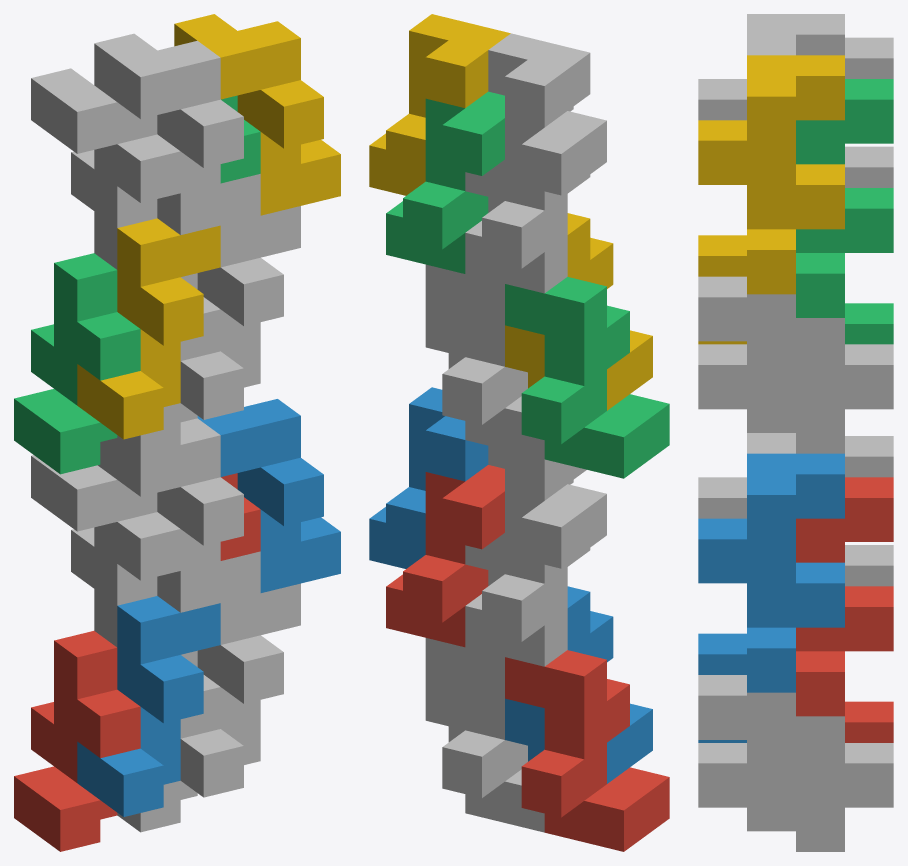
The model's file is tiling.obj.
3 views of the same model, side by side, from view 1: azimuth 30°, elevation 25°; view 2: azimuth 150°, elevation 25°; view 3: azimuth 270°, elevation 25° (orthographic). The views are drawn at different scales.
Parts seen in each view (by area): view 1: copy_2_domain_4, copy_1_domain_2, copy_1_domain_4, copy_1_domain_3, copy_1_domain_1, copy_2_domain_8, copy_2_domain_2, copy_2_domain_3, copy_2_domain_6, copy_2_domain_1, copy_1_domain_6, copy_1_domain_8 (+4 smaller); view 2: copy_1_domain_1, copy_1_domain_3, copy_2_domain_3, copy_2_domain_1, copy_2_domain_5, copy_2_domain_7, copy_1_domain_5, copy_1_domain_7, copy_2_domain_8, copy_2_domain_6, copy_2_domain_4, copy_1_domain_2 (+4 smaller); view 3: copy_2_domain_6, copy_2_domain_8, copy_1_domain_8, copy_1_domain_6, copy_2_domain_5, copy_2_domain_7, copy_1_domain_7, copy_1_domain_5, copy_2_domain_4, copy_2_domain_1, copy_2_domain_3, copy_2_domain_2 (+4 smaller).
Part boxes in pixels (box(x1,y1,x2,y2)): copy_2_domain_4: box(94, 33, 260, 235); copy_1_domain_2: box(77, 596, 220, 816); copy_1_domain_4: box(77, 218, 220, 439); copy_1_domain_3: box(14, 253, 140, 474); copy_1_domain_1: box(14, 631, 140, 851); copy_2_domain_8: box(174, 14, 340, 215); copy_2_domain_2: box(98, 418, 260, 612); copy_2_domain_3: box(31, 68, 180, 269); copy_2_domain_6: box(197, 399, 340, 592); copy_2_domain_1: box(31, 455, 180, 647); copy_1_domain_6: box(180, 583, 300, 797); copy_1_domain_8: box(180, 206, 300, 419); copy_1_domain_1: box(505, 650, 669, 851); copy_1_domain_3: box(505, 277, 669, 478); copy_2_domain_3: box(465, 111, 606, 293); copy_2_domain_1: box(465, 484, 606, 666); copy_2_domain_5: box(386, 465, 504, 647); copy_2_domain_7: box(386, 91, 504, 273); copy_1_domain_5: box(425, 638, 544, 832); copy_1_domain_7: box(425, 264, 544, 459); copy_2_domain_8: box(369, 14, 510, 195); copy_2_domain_6: box(369, 387, 488, 568); copy_2_domain_4: box(465, 33, 590, 212); copy_1_domain_2: box(505, 586, 652, 783); copy_2_domain_6: box(698, 453, 844, 692); copy_2_domain_8: box(698, 55, 844, 294); copy_1_domain_8: box(698, 276, 844, 429); copy_1_domain_6: box(698, 675, 844, 828); copy_2_domain_5: box(796, 477, 893, 716); copy_2_domain_7: box(796, 79, 893, 317); copy_1_domain_7: box(747, 318, 893, 453); copy_1_domain_5: box(747, 716, 893, 851); copy_2_domain_4: box(698, 14, 844, 120); copy_2_domain_1: box(845, 436, 893, 586); copy_2_domain_3: box(845, 37, 893, 187); copy_2_domain_2: box(698, 433, 795, 518).
Bounding box in the file's own units: 7 × 18 × 4.
